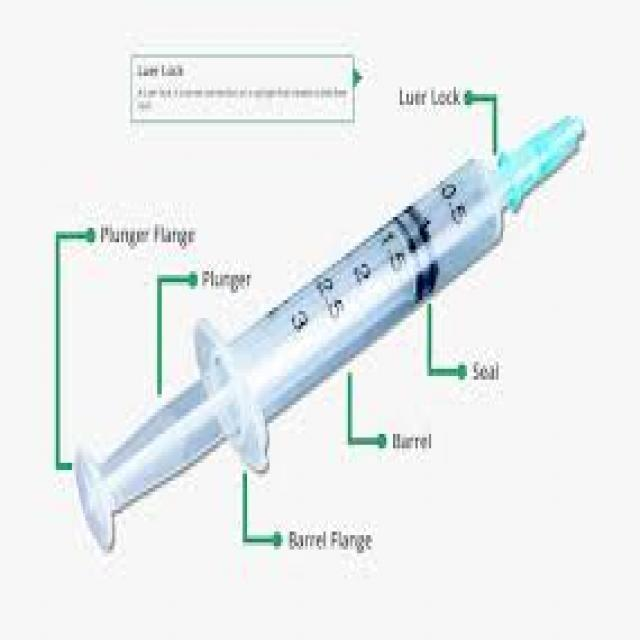syringe: (69, 119, 601, 563)
